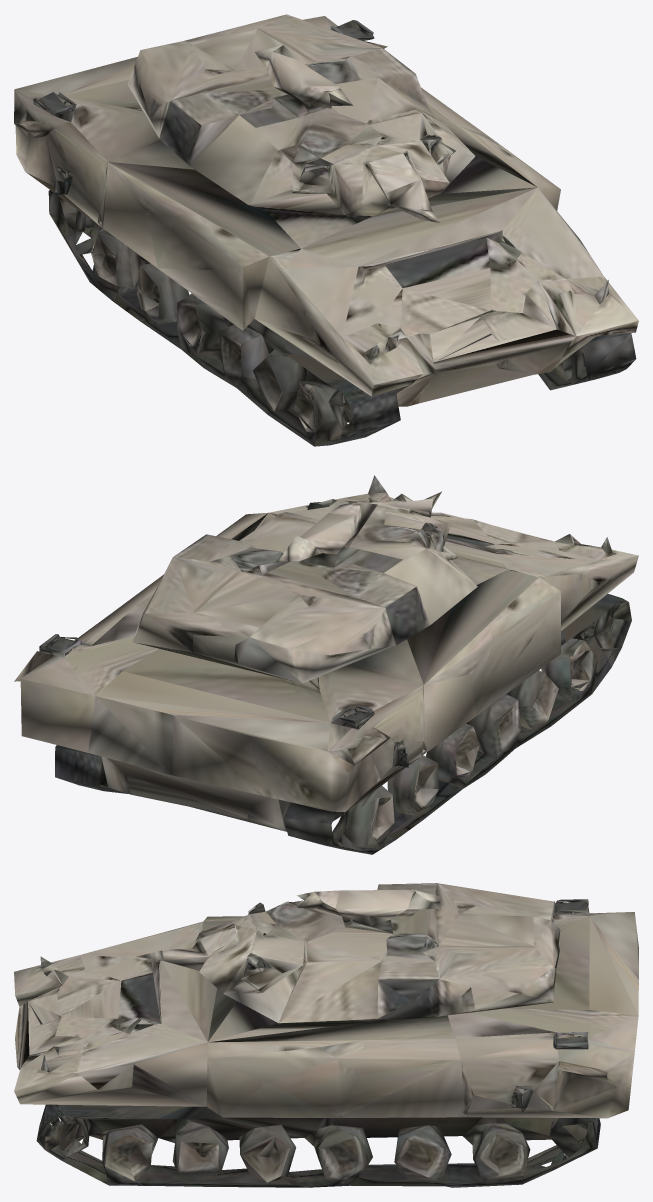
File: t243_apc_lod1.glb
3 views of the same model, one above another, from view 1: azimuth 30°, elevation 25°; view 2: azimuth 150°, elevation 25°; view 3: azimuth 270°, elevation 25° (orthographic). The views are drawn at different scales.
Bounding box in the file's own units: 3.16 × 2.12 × 5.2.
Materials: 1 (1 with a texture image).
